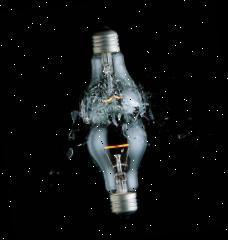lightbulb: (50, 20, 166, 222), (84, 115, 156, 220)
